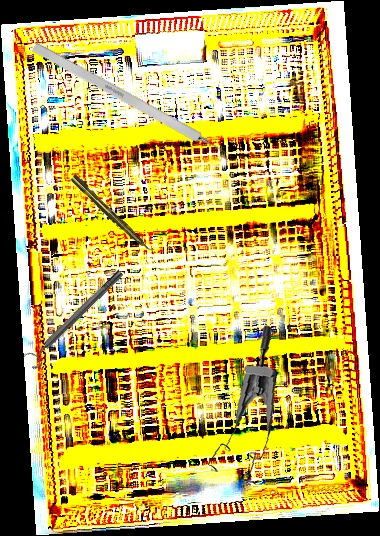Fixation Ring: (21, 265, 129, 371)
Handpiece: (68, 172, 156, 257)
Hook Surgical: (31, 41, 240, 164)
Speculum: (195, 324, 288, 488)
